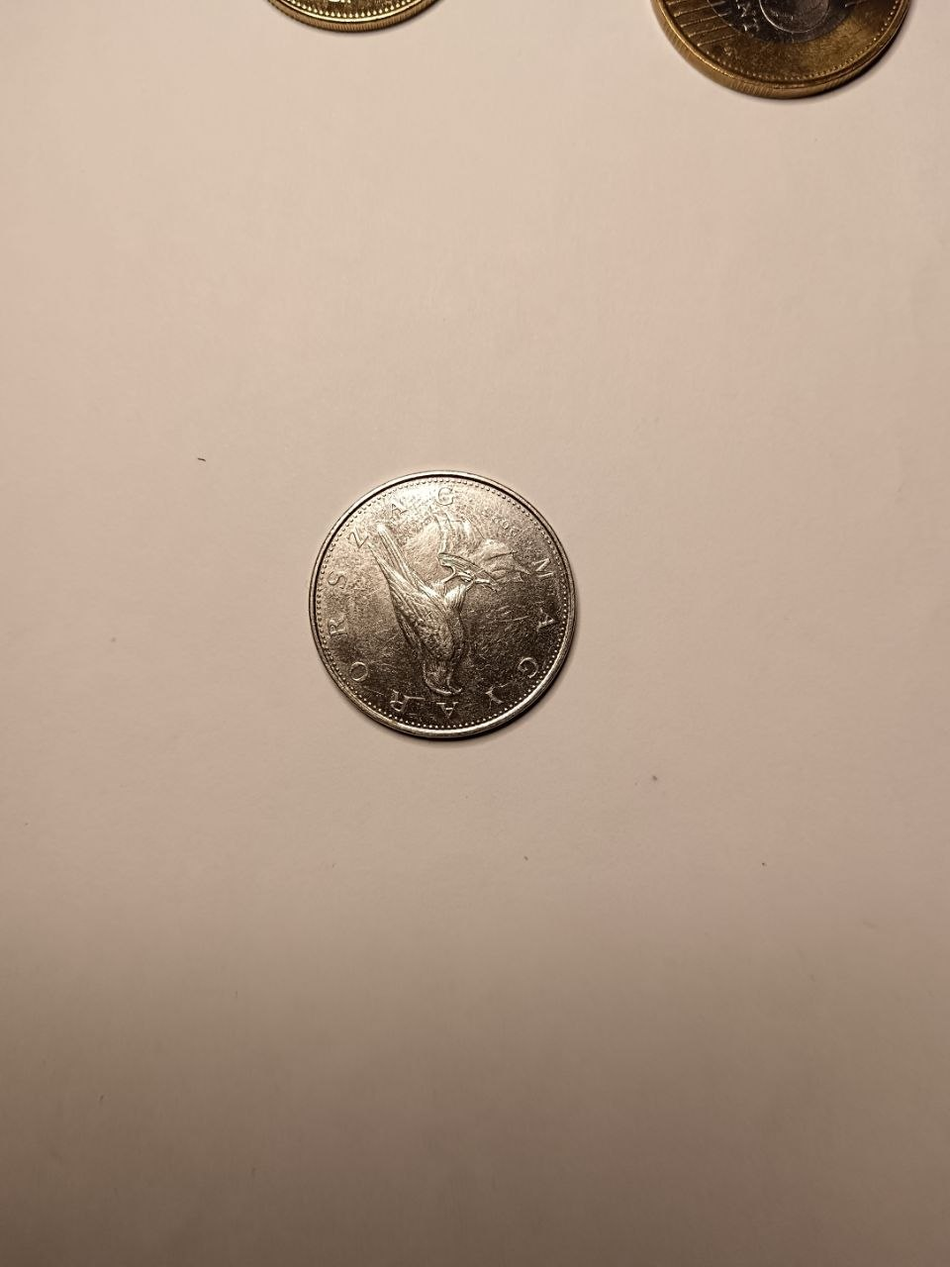50ft: (309, 473, 577, 737)
